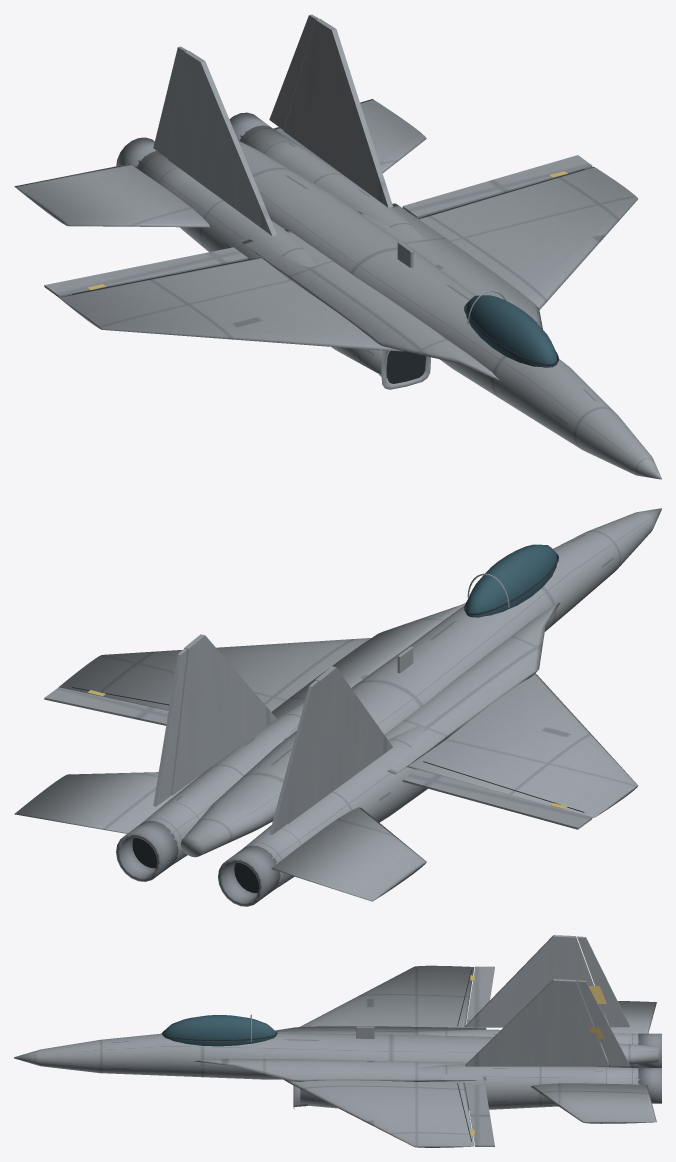
The model's file is mig-29.glb.
The picture shows the model from 3 angles, top to bottom: view 1: azimuth 30°, elevation 25°; view 2: azimuth 150°, elevation 25°; view 3: azimuth 270°, elevation 25°; orthographic projection. The views are drawn at different scales.
Visible parts, largest first — view 1: airframe_static, tailplane_L, canopy, flaperon_R, flaperon_L, tailplane_R, rudder_2, rudder_1; view 2: airframe_static, tailplane_L, tailplane_R, canopy, flaperon_L, rudder_2, flaperon_R, rudder_1; view 3: airframe_static, tailplane_R, canopy, rudder_1, rudder_2, flaperon_R, tailplane_L, flaperon_L.
Boxes of the visible parts, <box> form: airframe_static: <box>58,18,661,479</box>; tailplane_L: <box>14,164,209,227</box>; canopy: <box>466,295,556,367</box>; flaperon_R: <box>402,155,592,217</box>; flaperon_L: <box>44,247,247,297</box>; tailplane_R: <box>273,99,426,173</box>; rudder_2: <box>269,14,318,130</box>; rudder_1: <box>153,46,187,158</box>; airframe_static: <box>59,508,661,906</box>; tailplane_L: <box>271,807,426,901</box>; tailplane_R: <box>14,772,202,833</box>; canopy: <box>466,544,556,617</box>; flaperon_L: <box>402,769,592,829</box>; rudder_2: <box>153,648,187,806</box>; flaperon_R: <box>44,687,168,725</box>; rudder_1: <box>269,680,318,834</box>; airframe_static: <box>14,935,661,1147</box>; tailplane_R: <box>530,1083,656,1123</box>; canopy: <box>163,1015,276,1046</box>; rudder_1: <box>577,936,629,1027</box>; rudder_2: <box>577,980,629,1066</box>; flaperon_R: <box>465,1085,494,1146</box>; tailplane_L: <box>601,1001,656,1033</box>; flaperon_L: <box>466,966,494,1028</box>.
Bounding box in the file's own units: 11.36 × 3.95 × 17.32.
Materials: 5 (1 with a texture image).
